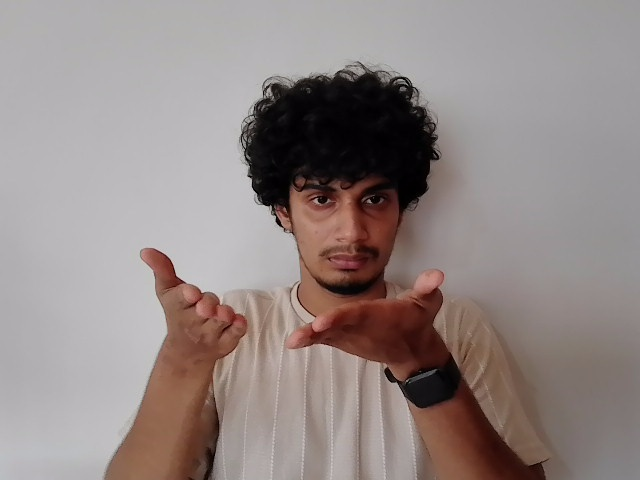here: (138, 245, 451, 367)
